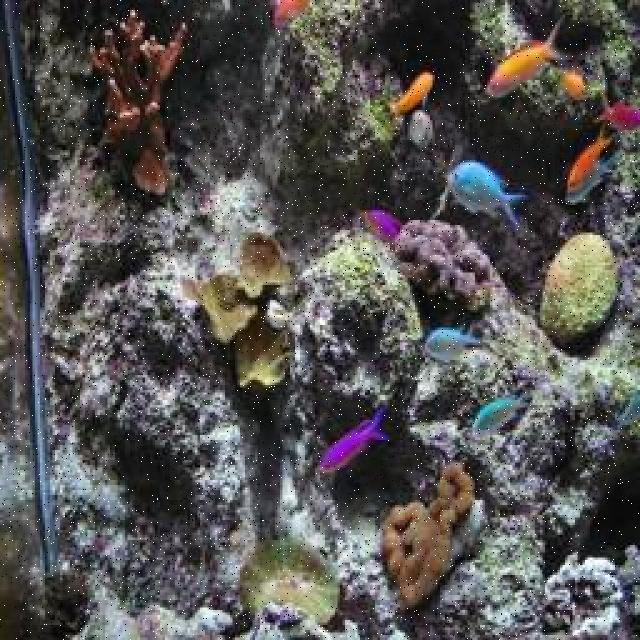fish: (483, 20, 576, 100), (446, 162, 527, 226), (319, 411, 388, 473), (567, 123, 619, 194), (472, 393, 532, 440), (427, 325, 489, 362), (564, 158, 616, 201), (387, 72, 432, 114), (594, 92, 638, 130), (362, 210, 406, 244), (273, 0, 311, 34), (607, 390, 638, 430), (560, 73, 585, 95)
reefs: (91, 7, 187, 198), (179, 230, 293, 387), (380, 460, 474, 612), (392, 219, 495, 315), (239, 539, 338, 627), (540, 233, 617, 339)
